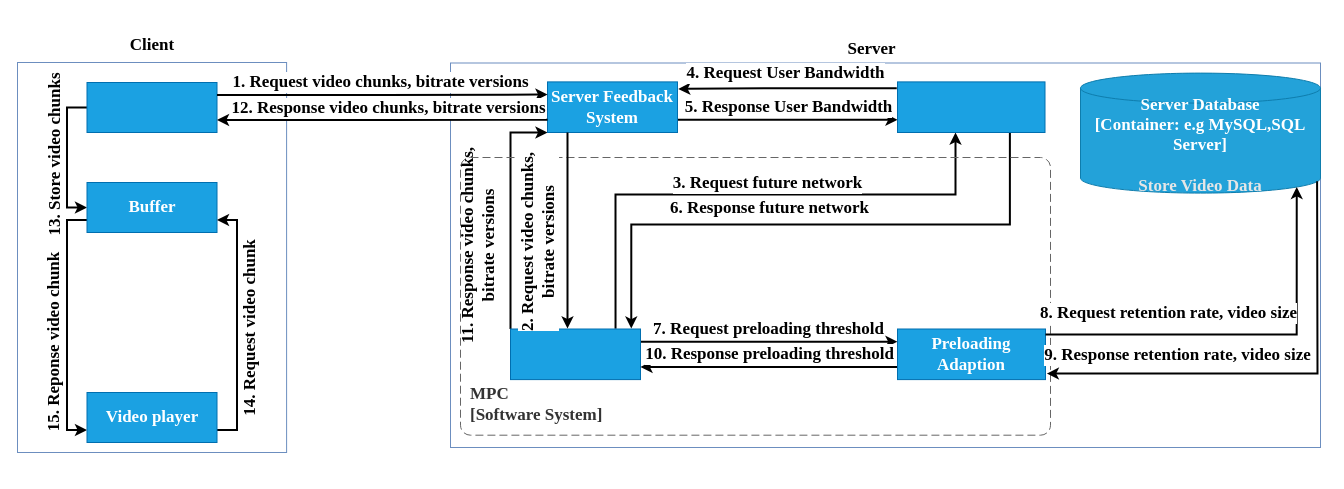
This 1344x489 diagram has some shape labels left out. The centre of each missing label's shape, as x and y in pixels:
"Bitrate Adaption" belongs at point 575,354.
"Network Estimation" belongs at point 970,106.
"User Feedback System" belongs at point 151,107.
